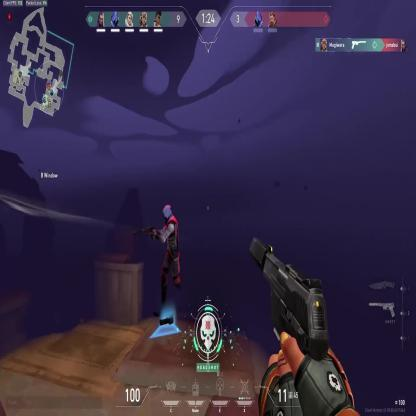enemy: (154, 202, 182, 318)
enemy_head: (162, 203, 172, 220)
